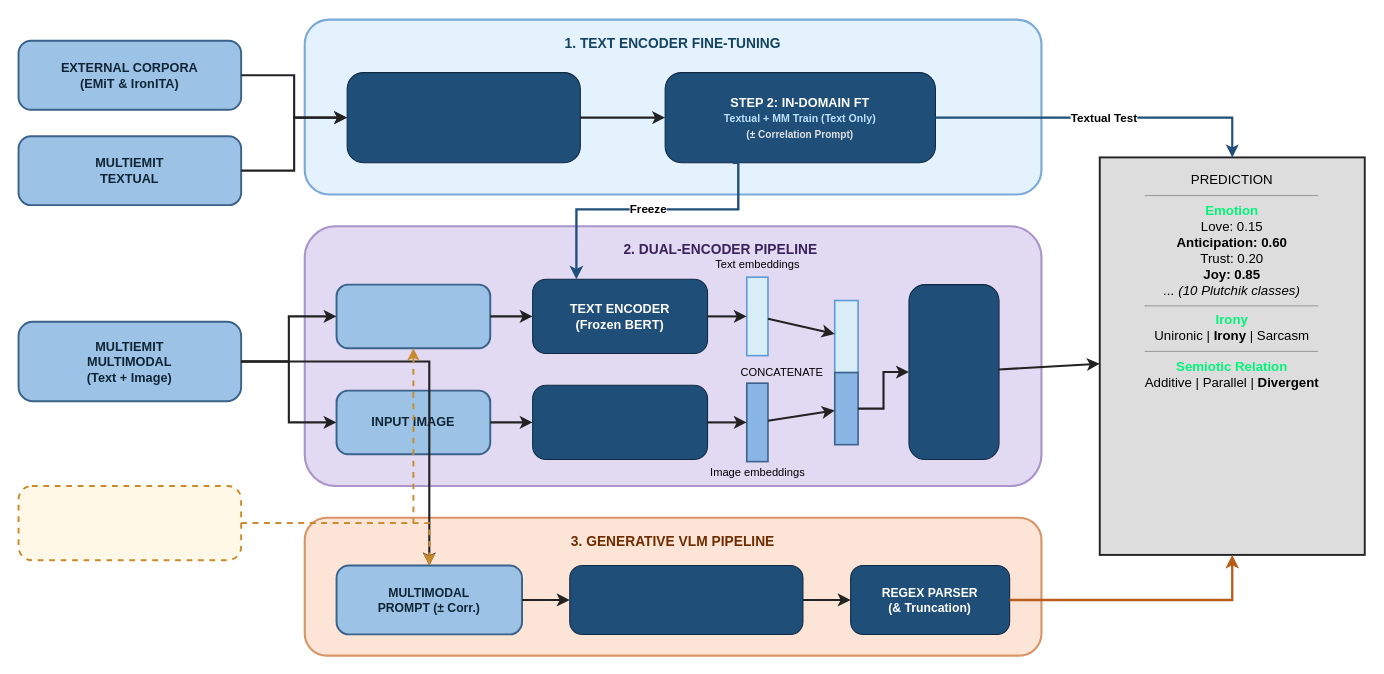
The diagram is 1384 pixels wide and 674 high, and some of its shapes have lost their labels. Here are the shapes that lost their labels. From the top down, the centre of each, then its label:
At (x=463, y=117): "STEP 1: WARM-UP (UmBERTo / FEEL-IT)".
At (x=413, y=316): "INPUT TEXT (± Corr.)".
At (x=953, y=372): "SGDCLASSIFIER".
At (x=620, y=422): "IMAGE ENCODER (Frozen ViT)".
At (x=129, y=523): "CORRELATION PROMPTING".
At (x=686, y=599): "PIXTRAL 12B (ZS / 3-Shot / LoRA FT)".
